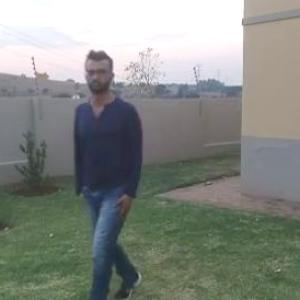follow: (65, 37, 178, 299)
